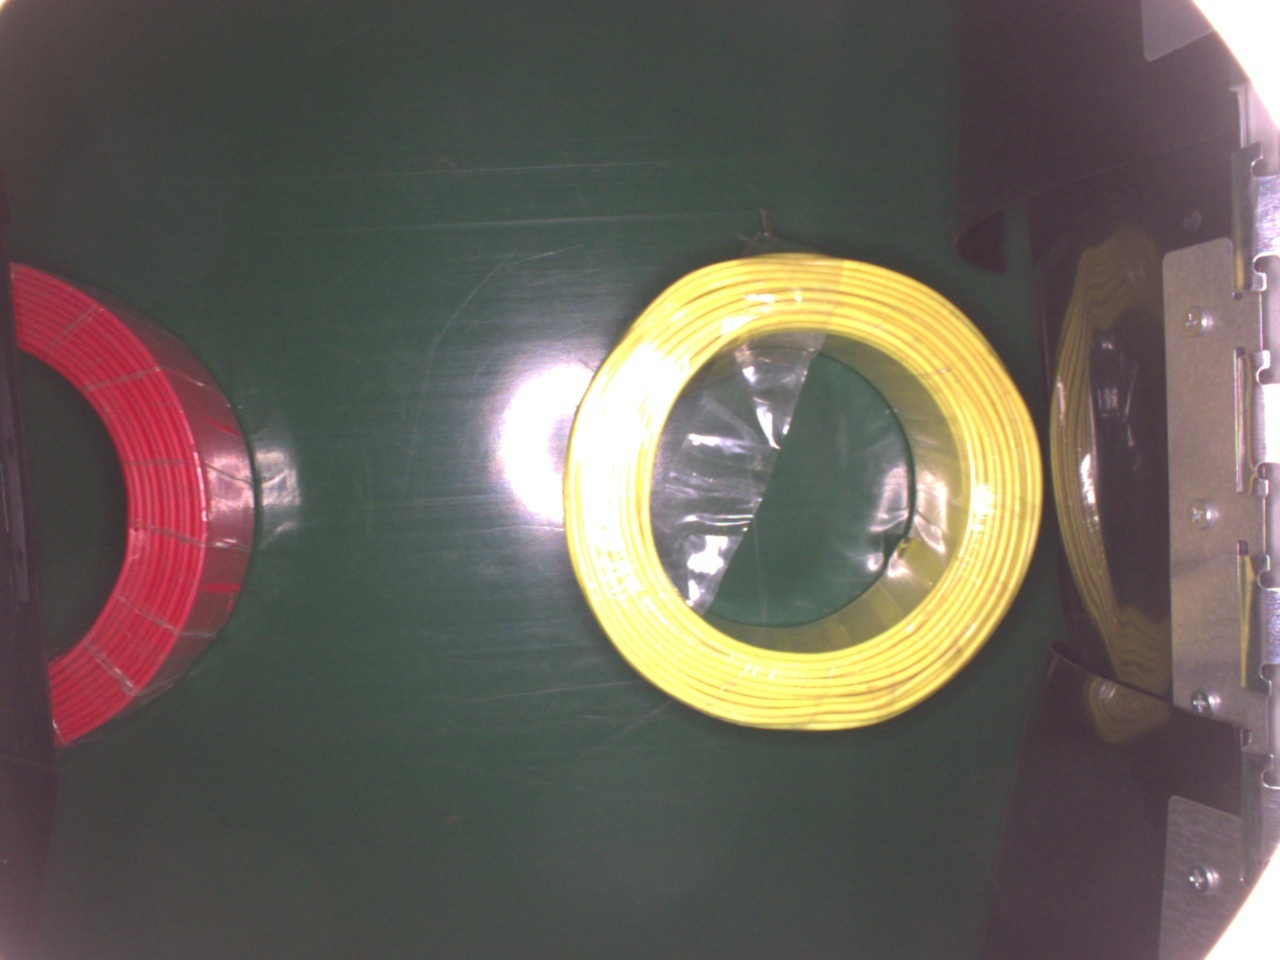red: (8, 256, 259, 754)
yellow: (559, 249, 1046, 732)
